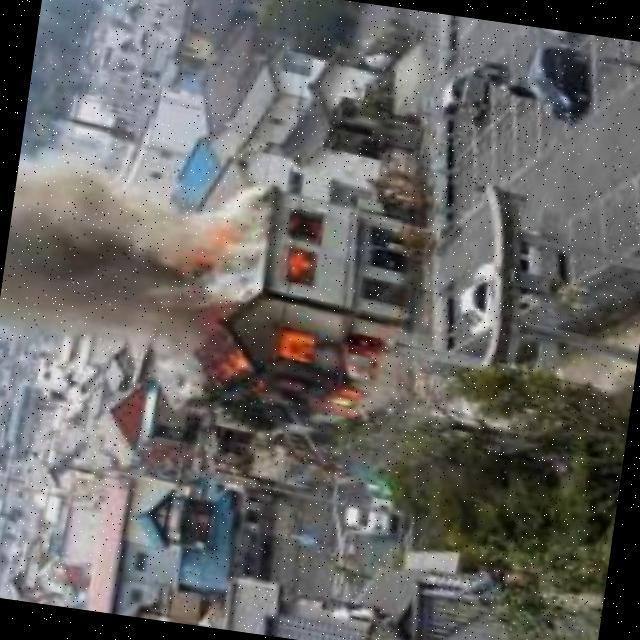fire: (206, 295, 397, 440), (272, 238, 324, 290)
